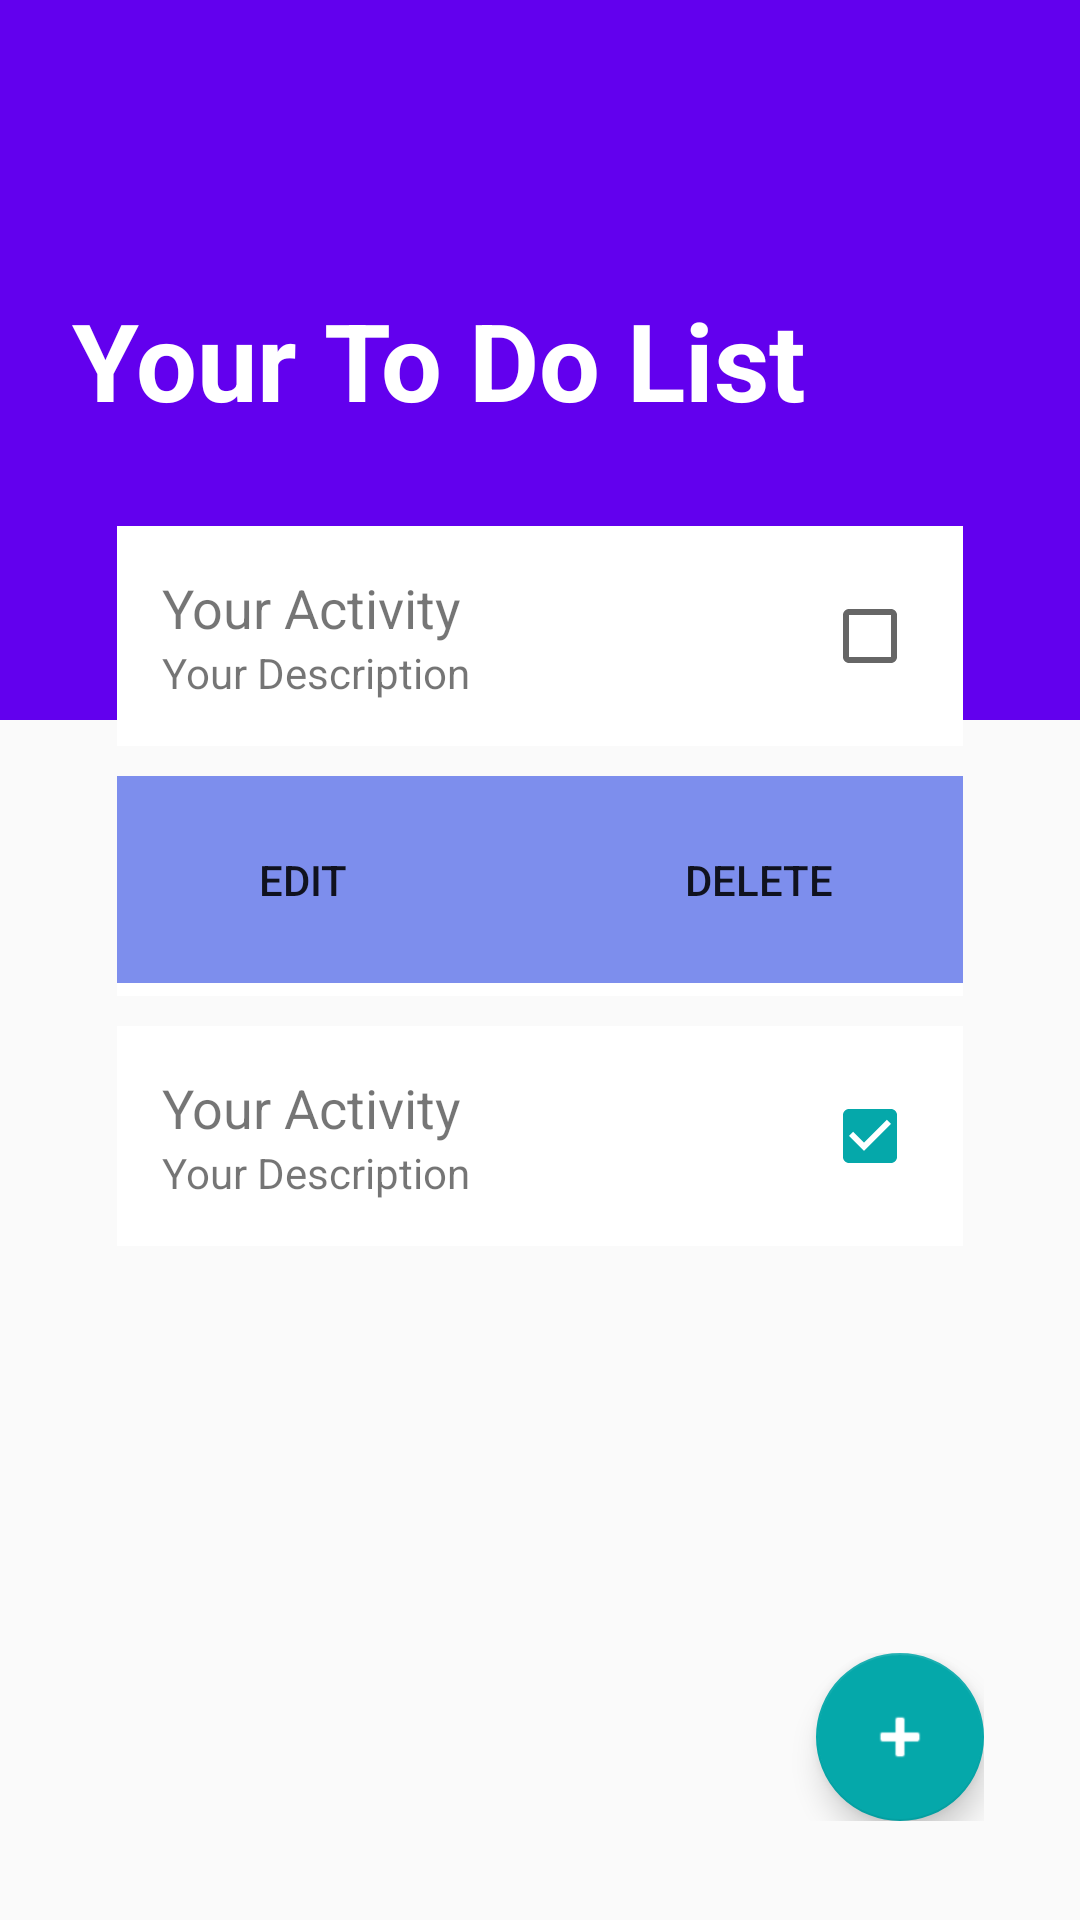

Icons on this 1080*1920 Android screen, each with its box as box=[x1, y1, x2, y2]:
add: box=[816, 1653, 984, 1821]
